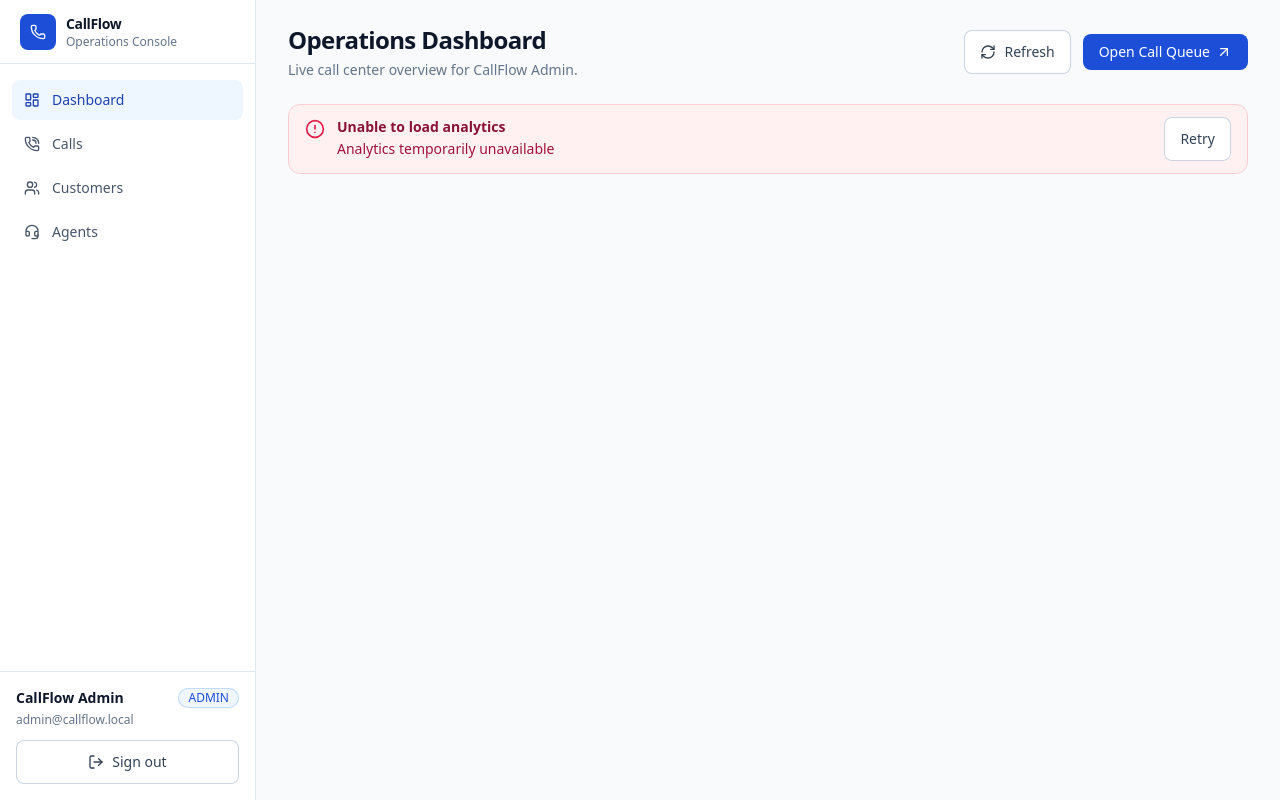
Test case: DashboardPage › displays error banner when analytics fail to load and recovers on Retry
expect the message shows "Unable to load analytics": met, box [337,117,505,136]
expect the message shows "Analytics temporarily unavailable": met, box [337,139,554,158]
Click the button "Retry".
click(1198, 139)  # box [1164,117,1231,161]
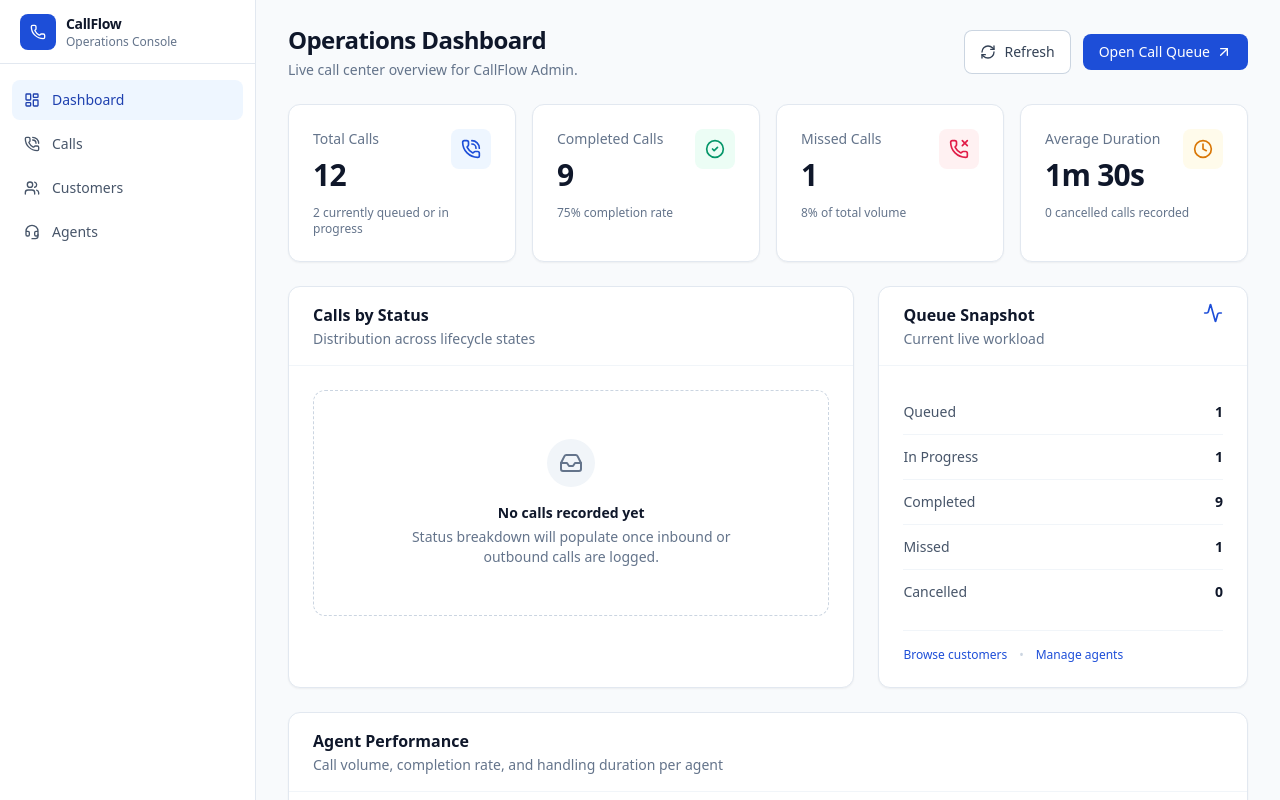
expect the message "Unable to load analytics Analytics temporarily unavailable Retry" is gone: met
expect the text "12" is shown: met, box [313,154,346,195]
expect the text "1m 30s" is shown: met, box [1045,157,1160,193]
